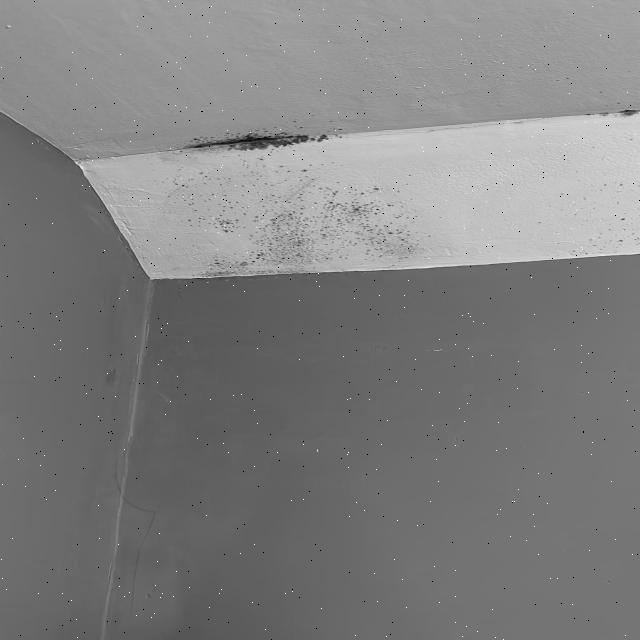stain marks: (173, 159, 430, 281), (177, 123, 344, 158)
